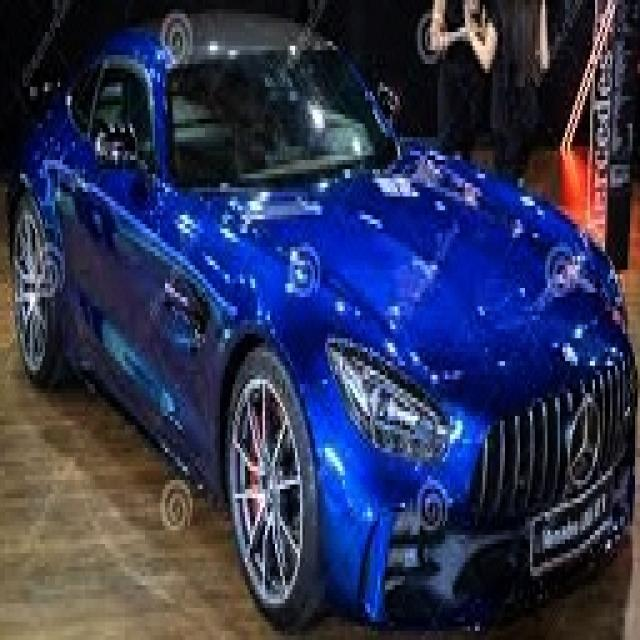blue: (15, 13, 640, 640)
